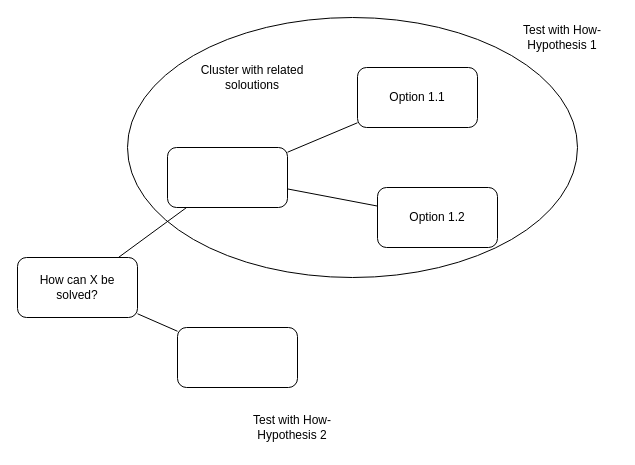
This 635x465 diagram has some shape labels left out. The centre of each missing label's shape, as x and y in pixels:
"Option 1" goes at (227,177).
"Option 2" goes at (237,357).
